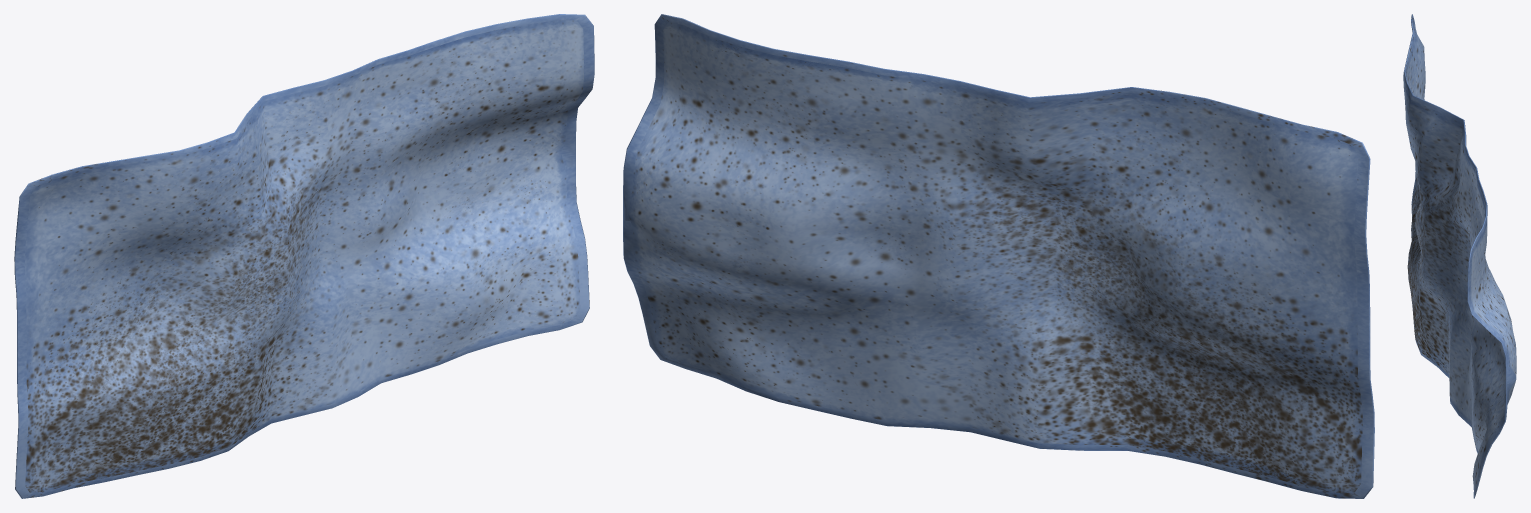
Rendered from BgMD_Laundry01.fbx.
3 renders of one model, left to right at view 1: azimuth 30°, elevation 25°; view 2: azimuth 150°, elevation 25°; view 3: azimuth 270°, elevation 25°, orthographic. The views are drawn at different scales.
Parts seen in each view (by area): view 1: pPlane1; view 2: pPlane1; view 3: pPlane1.
Part boxes in pixels (x1,y1,x2,y2): pPlane1: [14, 14, 594, 498]; pPlane1: [623, 14, 1374, 498]; pPlane1: [1403, 14, 1516, 498].
Size of the model in its own units: 60.6 by 30.57 by 11.91.
Materials: 1 (1 with a texture image).
